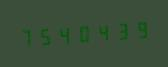five: (36, 23, 54, 49)
four: (93, 19, 111, 45), (55, 22, 73, 47)
nine: (131, 16, 149, 42)
seven: (17, 24, 35, 50)
three: (112, 18, 130, 43)
zero: (74, 20, 92, 46)
